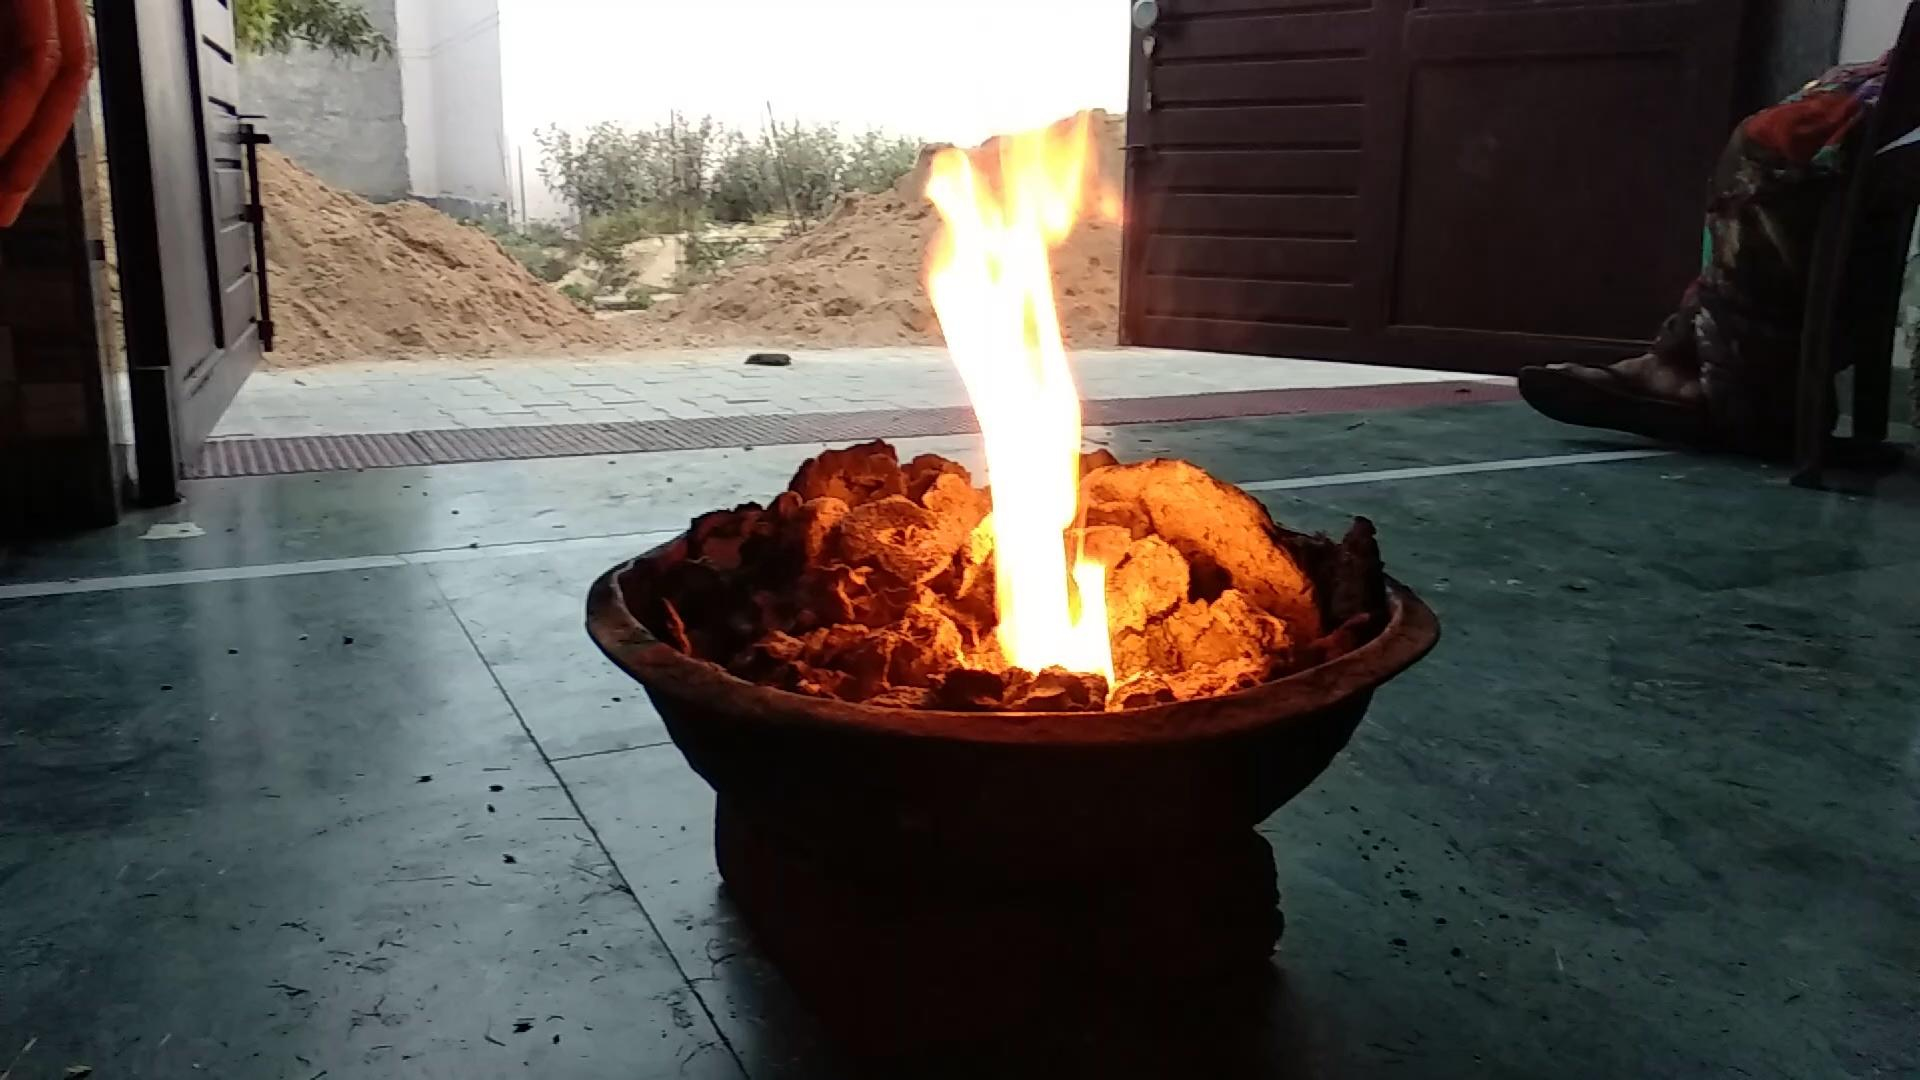fire: (905, 112, 1110, 680)
